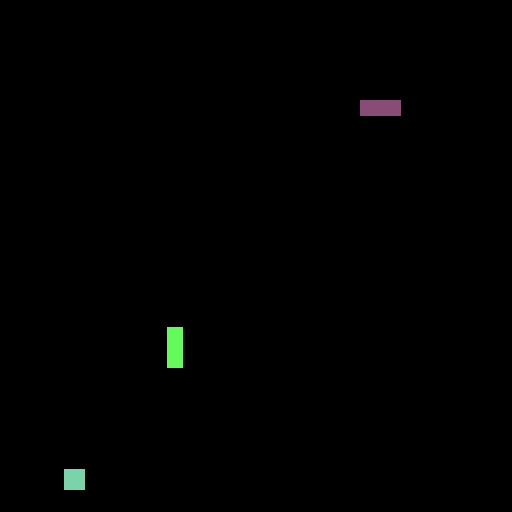side_rect: (354, 95, 409, 119)
square: (55, 461, 90, 497)
up_rect: (164, 319, 191, 372)
